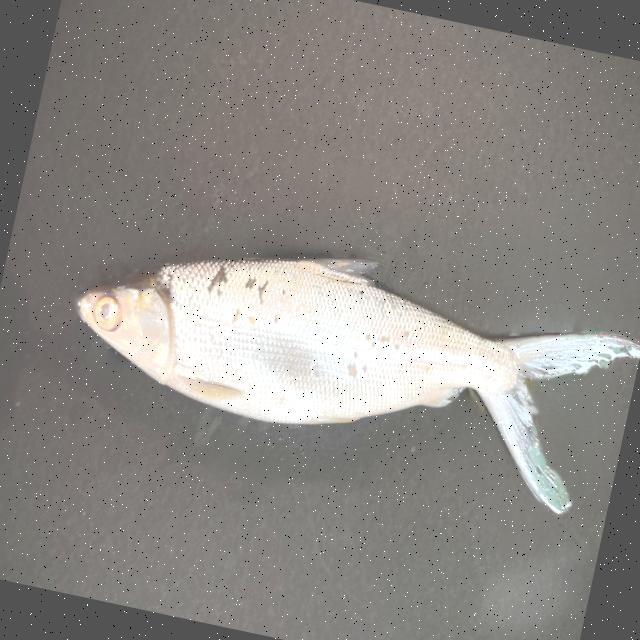695 g: (57, 201, 640, 523)
